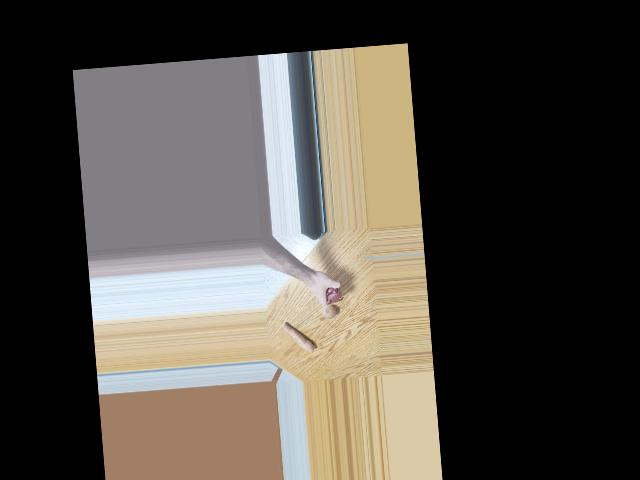onion: (320, 301, 338, 320)
